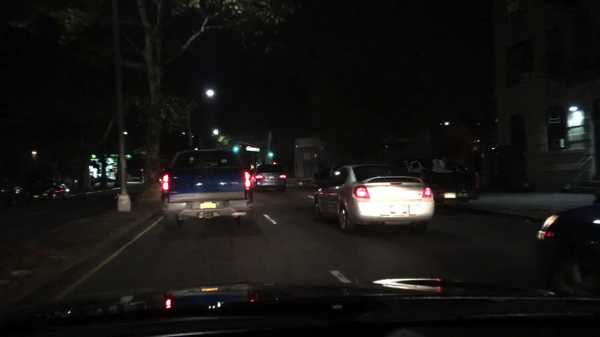car: (311, 163, 435, 237), (160, 149, 254, 229), (532, 205, 598, 299), (389, 155, 480, 215), (250, 162, 287, 193), (35, 181, 71, 202), (311, 166, 336, 188), (0, 182, 20, 206), (12, 184, 41, 200), (74, 175, 95, 188)
person: (95, 175, 101, 184)
traffic light: (268, 151, 274, 158), (233, 146, 239, 151)
traffic sign: (246, 146, 260, 153)
